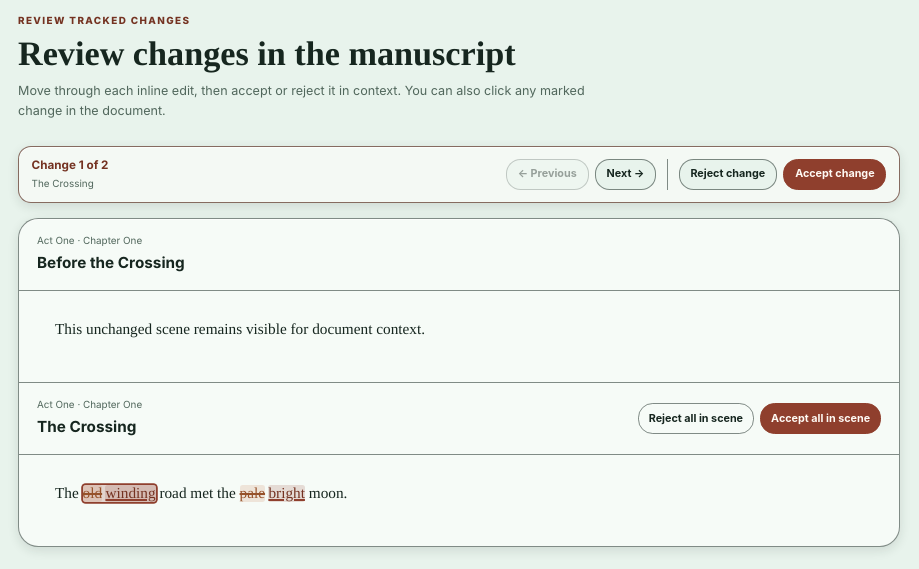
ManuscriptReview › shows unchanged scenes and lets the writer activate a change directly in the document
Expected: the text "This unchanged scene remains visible for document context." is shown, [55,321,425,338]
Click the button with aria-label "Review change 2 in The Crossing".
click(272, 494)  # box [240,485,305,502]
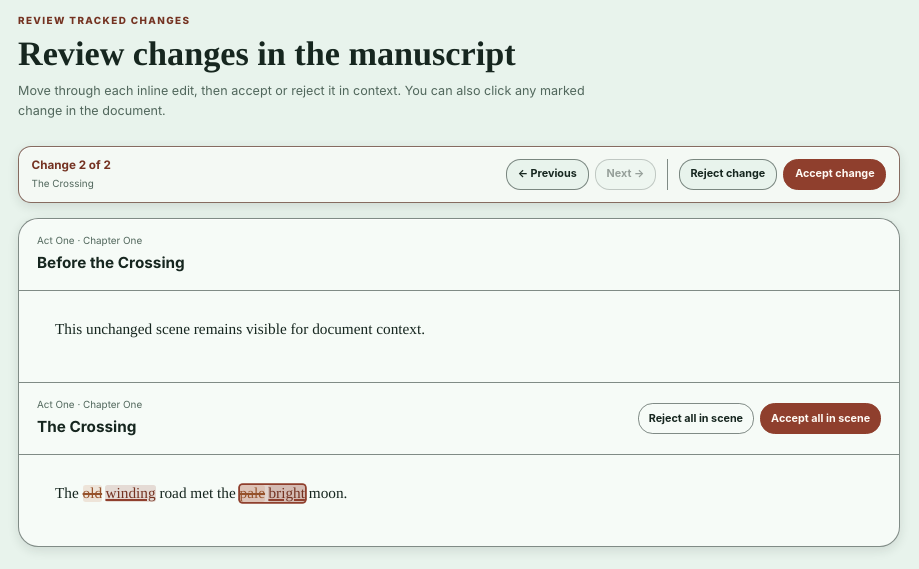
Expected: the text "Change 2 of 2" is shown, [32,157,111,175]
